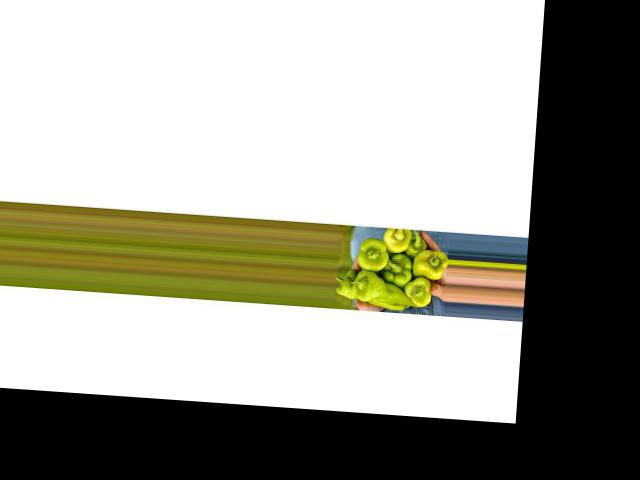bell_pepper: (410, 245, 447, 278)
